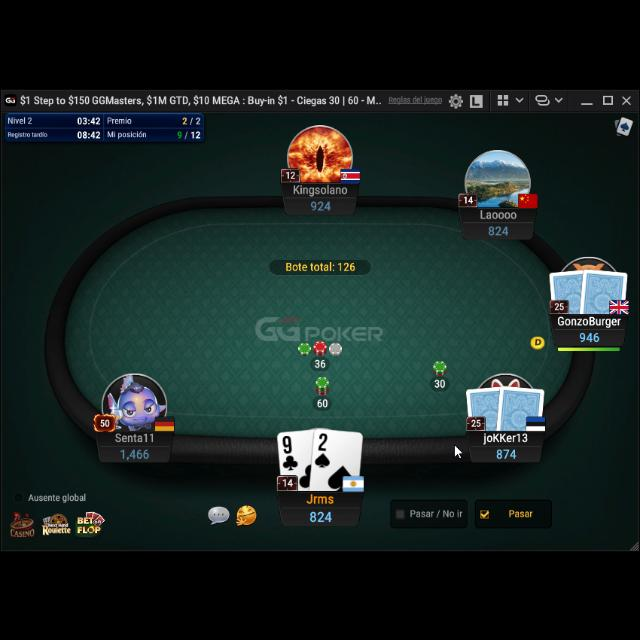2s: (313, 432, 333, 468)
9c: (282, 434, 298, 471)
bet_text: (432, 374, 448, 388), (316, 391, 329, 407), (316, 358, 326, 369)
card_back: (494, 381, 546, 431), (579, 265, 629, 315), (464, 384, 506, 431), (548, 266, 590, 312)
dealer: (528, 332, 546, 350)
pot_text: (285, 259, 359, 273)
stack_text: (119, 445, 151, 459), (308, 506, 334, 522), (578, 328, 602, 342), (486, 221, 509, 235), (495, 444, 517, 458), (310, 196, 332, 210)
